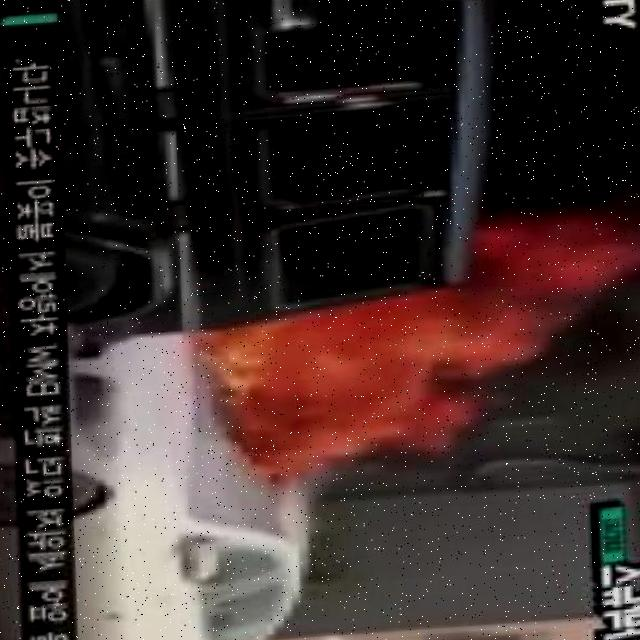fire: (206, 296, 462, 487), (460, 217, 640, 383)
